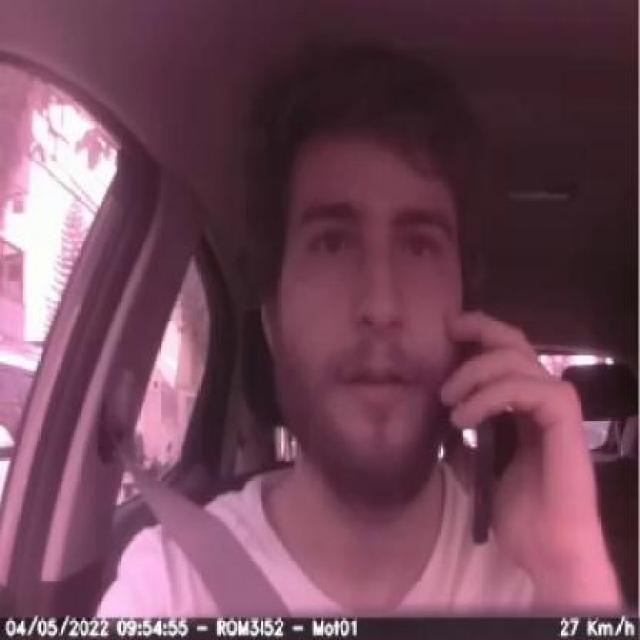using_phone: (173, 269, 618, 555)
